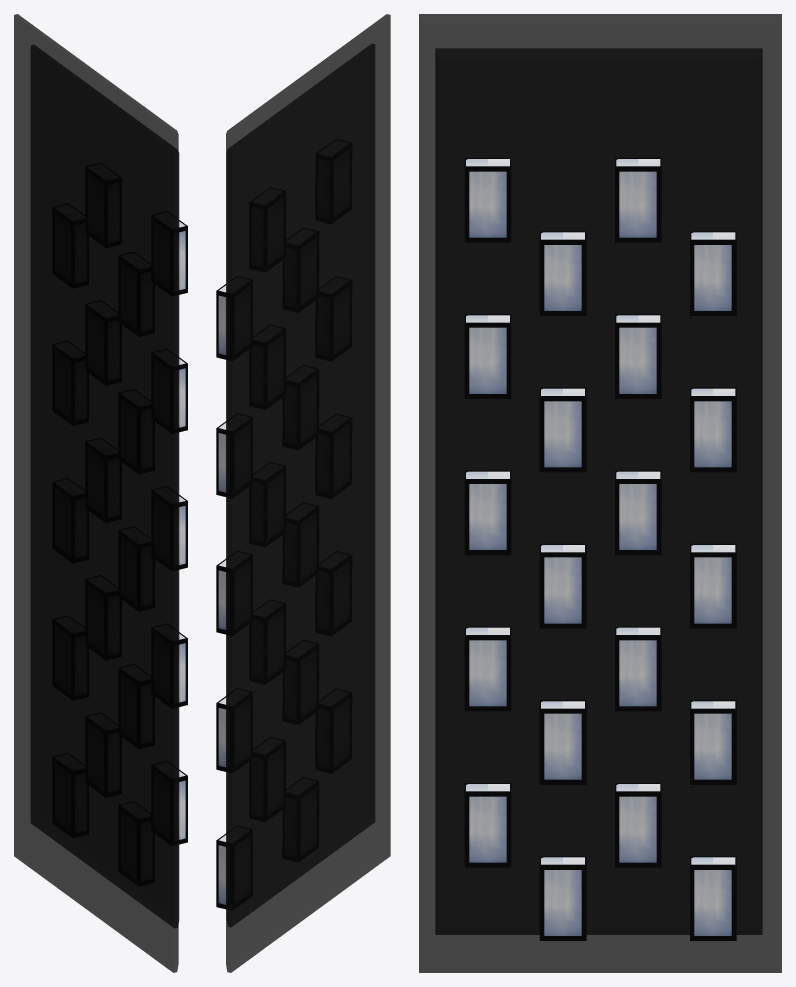
The model's file is PanelFocos.fbx.
3 views of the same model, side by side, from view 1: azimuth 30°, elevation 25°; view 2: azimuth 150°, elevation 25°; view 3: azimuth 270°, elevation 25° (orthographic). The views are drawn at different scales.
Parts seen in each view (by area): view 1: glass_panel1, tiles2; view 2: glass_panel1, tiles2; view 3: glass_panel1, tiles2.
Part boxes in pixels (x1,y1,x2,y2): glass_panel1: [14, 14, 179, 972]; tiles2: [179, 220, 187, 844]; glass_panel1: [226, 14, 390, 972]; tiles2: [216, 284, 226, 909]; glass_panel1: [419, 14, 781, 972]; tiles2: [464, 157, 736, 940].
Size of the model in its own units: 0.2345 by 5.46 by 1.88.
Materials: 3 (1 with a texture image).
